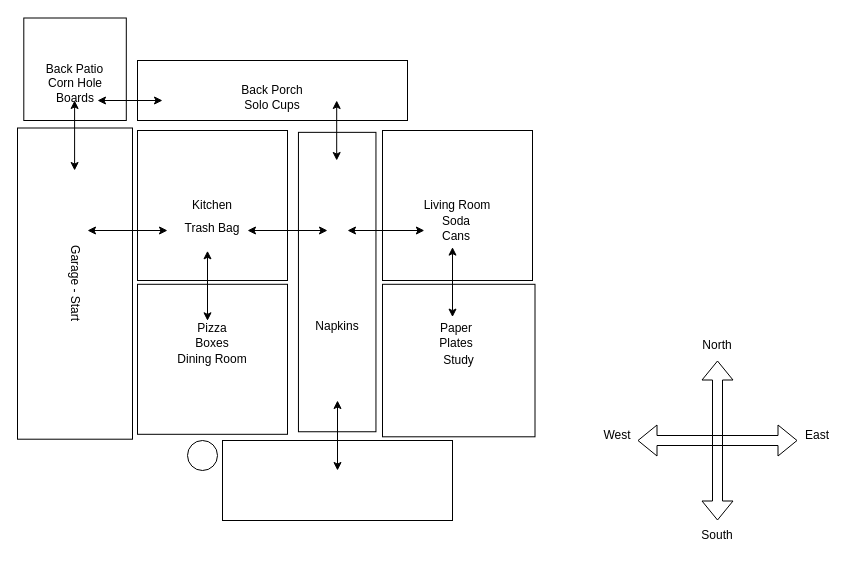
This 865x567 diagram has some shape labels left out. Each missing label, with the centre of its shape:
"Front Porch - Final" belongs at [337,480].
"Hallway" belongs at [337,281].
"Trash" belongs at [202,455].
